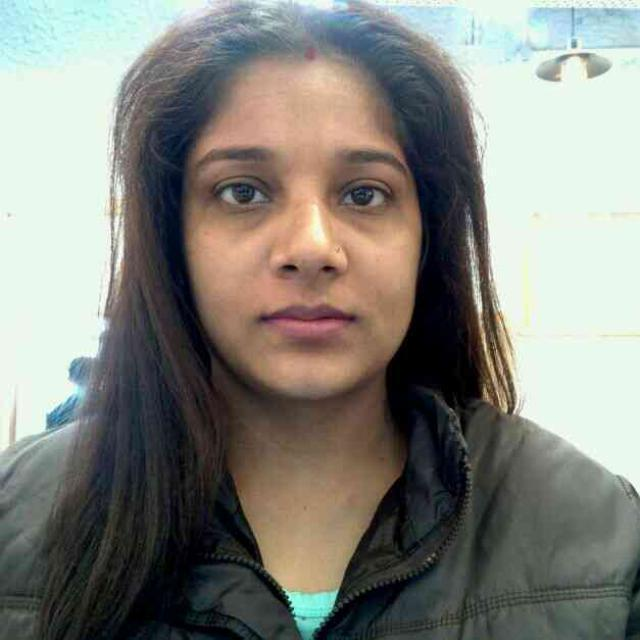puffy_eyes: (212, 202, 279, 237), (335, 211, 390, 234)
